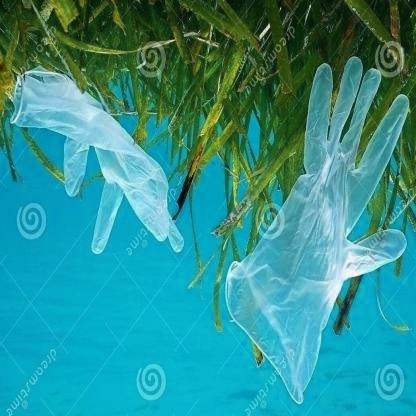glove: (226, 47, 411, 400), (5, 58, 187, 254)
